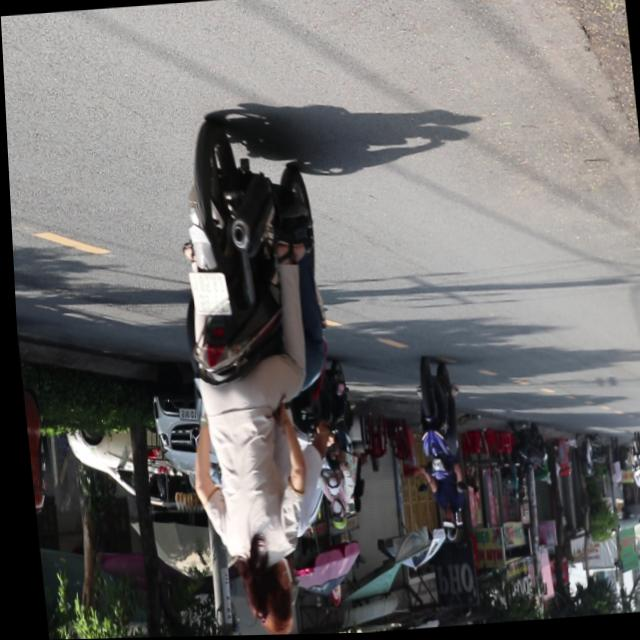helmet: (323, 499, 342, 534), (434, 512, 453, 545)
licenseplate: (150, 107, 358, 637), (405, 358, 469, 547), (300, 358, 366, 537)
motorcyclist: (236, 549, 292, 636)
nohelmet: (186, 273, 227, 317)
